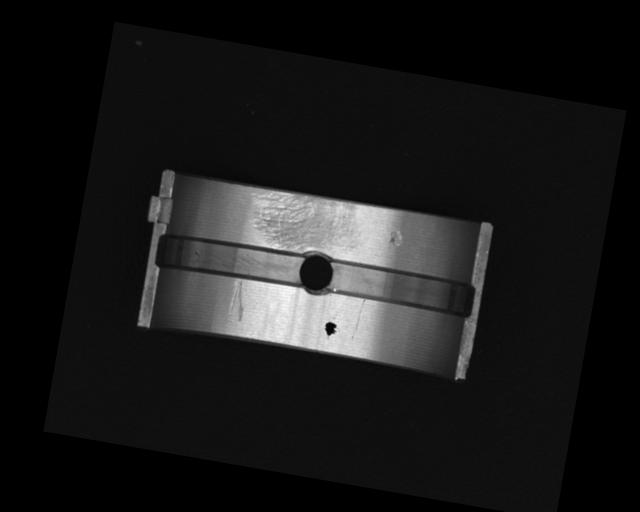blot: (321, 320, 339, 341)
bruise: (389, 228, 403, 246)
gap: (153, 229, 304, 290), (325, 258, 476, 319)
hole: (294, 249, 337, 299)
nick: (225, 279, 250, 323), (351, 298, 365, 339)
scratch: (243, 185, 367, 261)
